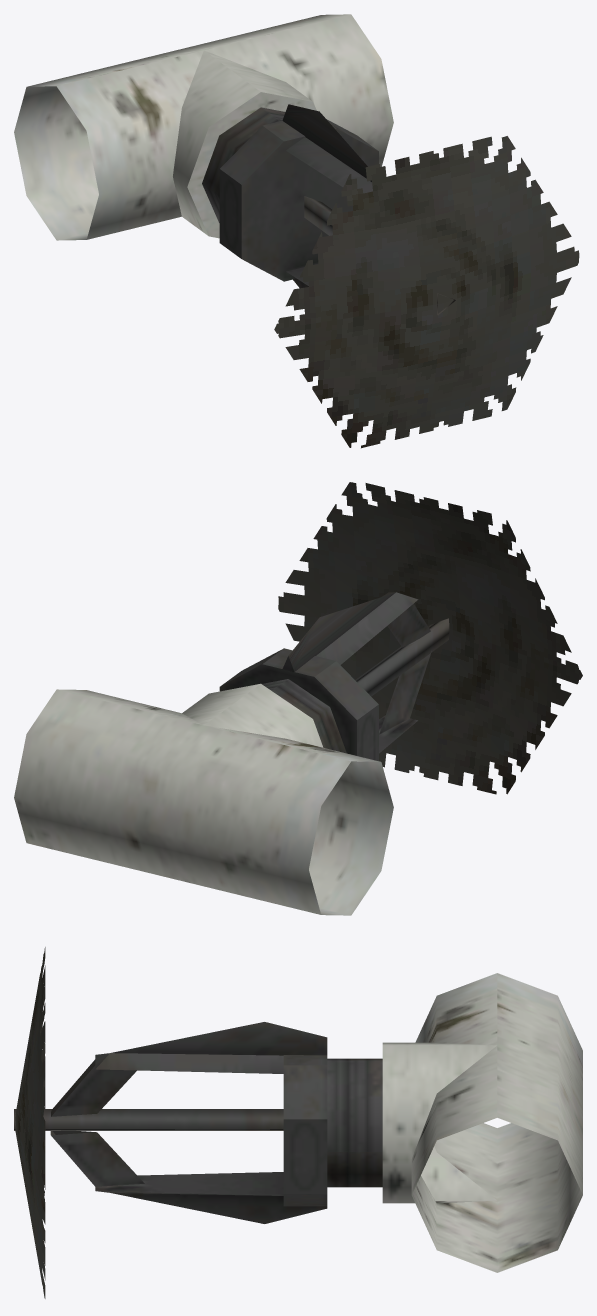
The model's file is p6_garage_pipes_sprinkler_LOD1.obj.
The picture shows the model from 3 angles, top to bottom: view 1: azimuth 30°, elevation 25°; view 2: azimuth 150°, elevation 25°; view 3: azimuth 270°, elevation 25°; orthographic projection.
Visible parts, largest first — view 1: mtl_p6_pipes_garage_sprinkler_top, mtl_p6_pipes_garage, mtl_p6_pipes_garage_details; view 2: mtl_p6_pipes_garage, mtl_p6_pipes_garage_sprinkler_top, mtl_p6_pipes_garage_details; view 3: mtl_p6_pipes_garage, mtl_p6_pipes_garage_details, mtl_p6_pipes_garage_sprinkler_top.
Boxes of the visible parts, bbox=[...] form: mtl_p6_pipes_garage_sprinkler_top: bbox=[274, 136, 579, 448]; mtl_p6_pipes_garage: bbox=[14, 14, 393, 240]; mtl_p6_pipes_garage_details: bbox=[202, 104, 455, 315]; mtl_p6_pipes_garage: bbox=[14, 683, 393, 915]; mtl_p6_pipes_garage_sprinkler_top: bbox=[278, 482, 582, 794]; mtl_p6_pipes_garage_details: bbox=[219, 592, 449, 761]; mtl_p6_pipes_garage: bbox=[382, 973, 582, 1272]; mtl_p6_pipes_garage_details: bbox=[14, 1022, 382, 1223]; mtl_p6_pipes_garage_sprinkler_top: bbox=[15, 947, 45, 1298].
Bounding box in the file's own units: 11.12 × 9.63 × 17.63.
